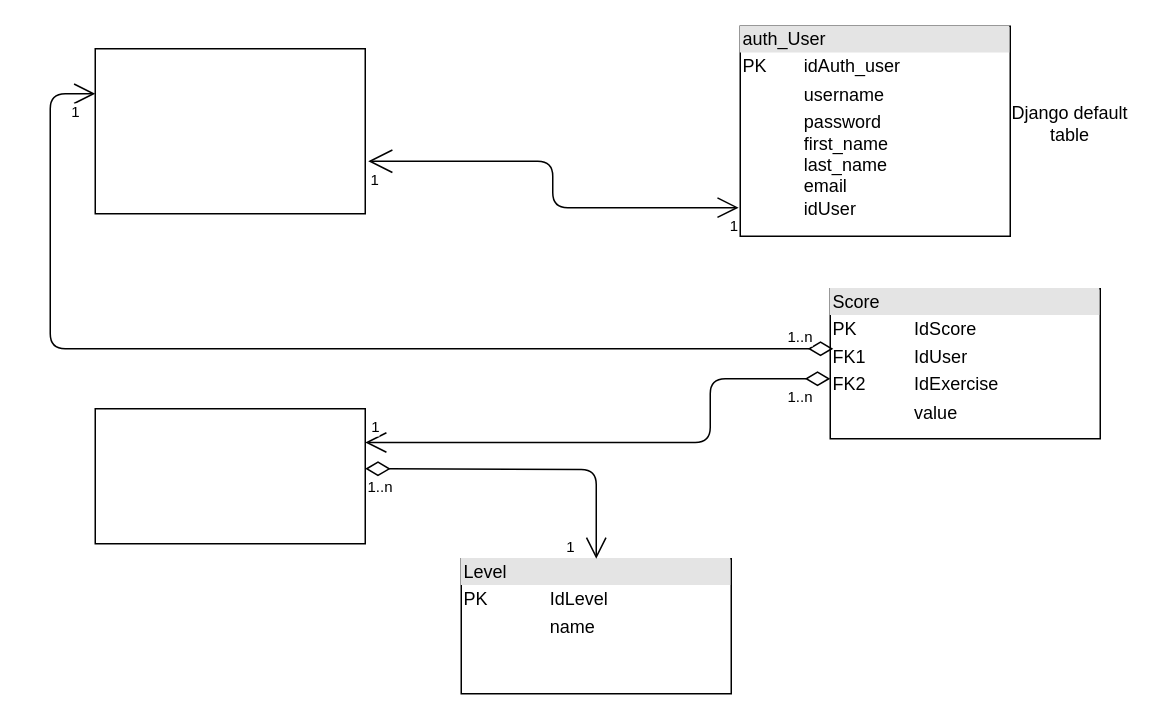
This 1157x720 diagram has some shape labels left out. The shapes that lost their labels are listed below. From the top down, each one's centre as x and y in pixels, then its label:
At (229,130): "User PK idUser birth_date photo idAuth_user".
At (229,475): "Exercise PK IdExercise FK1 IdLevel text punctuation".
